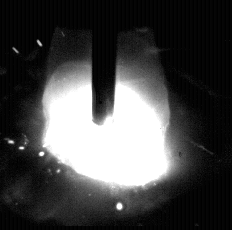arame: (93, 0, 115, 125)
poca: (43, 0, 165, 230)
